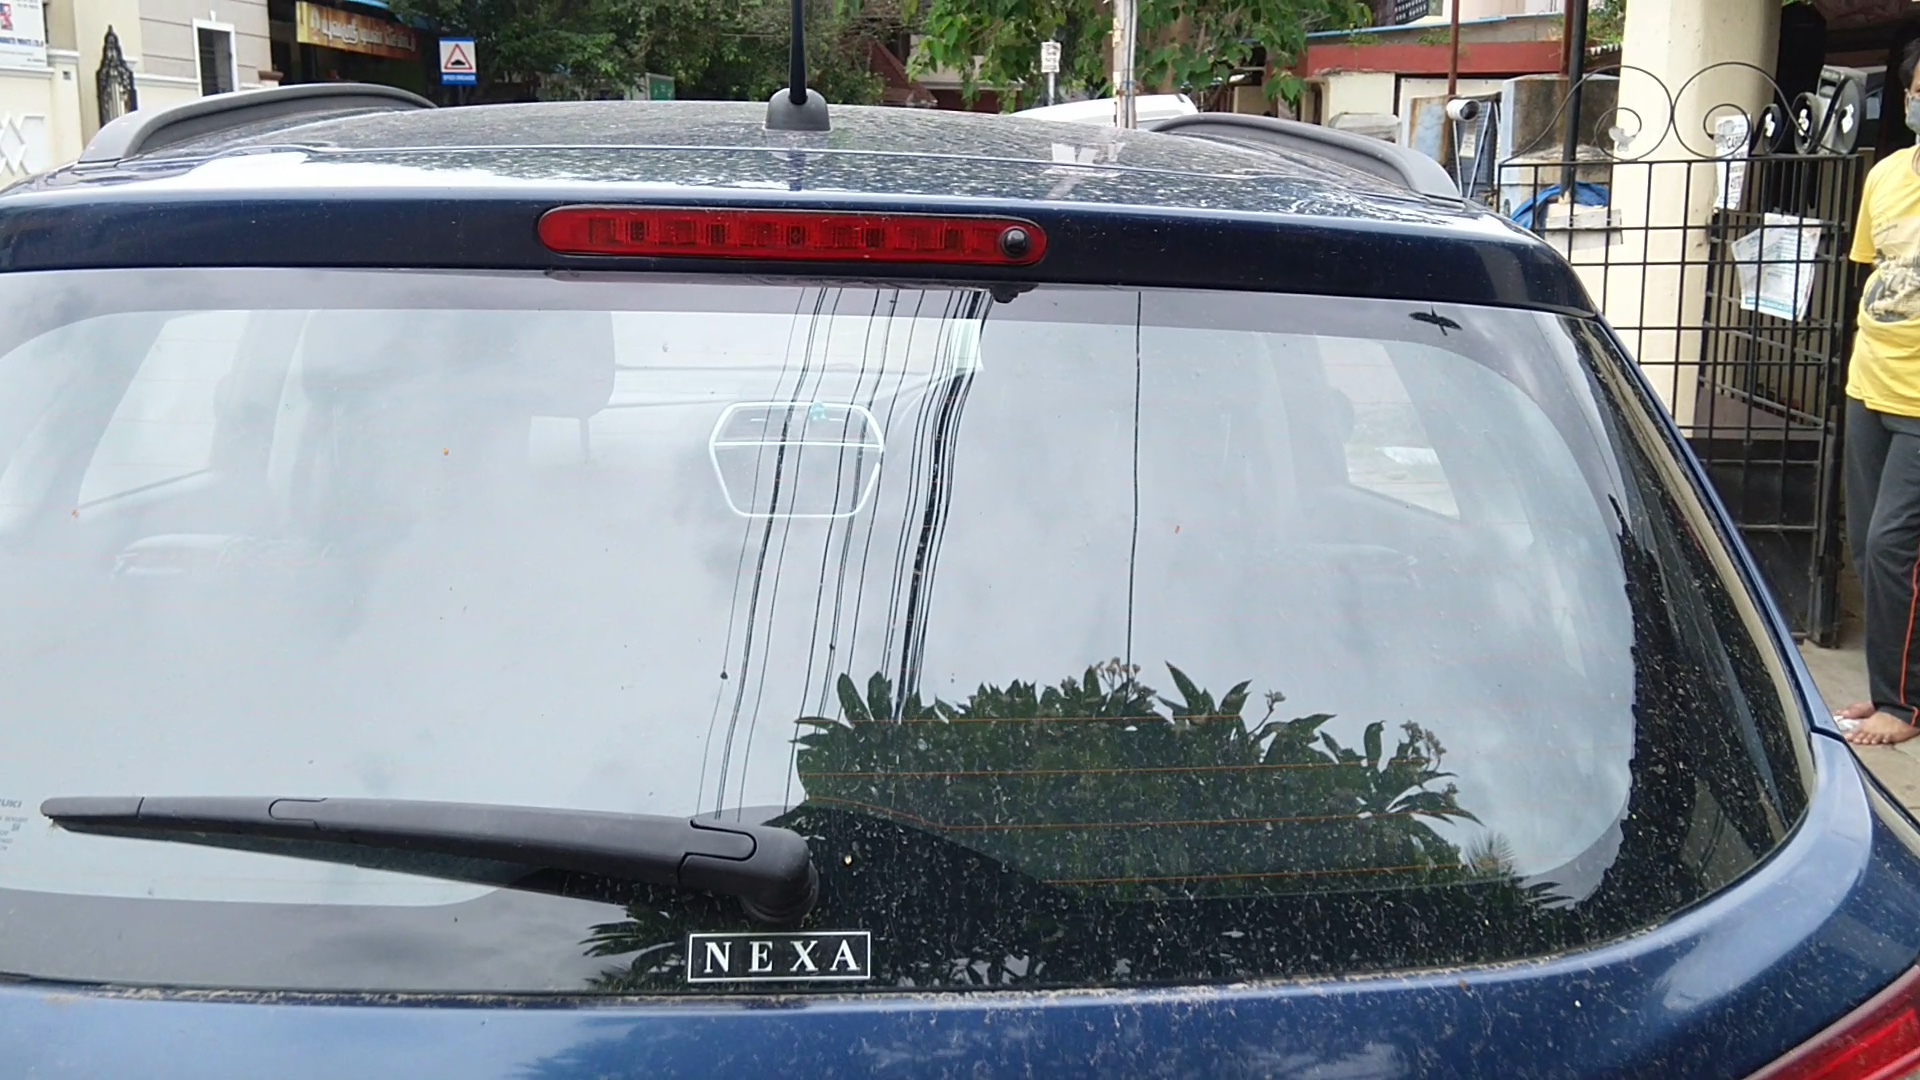rear_camera: (994, 216, 1044, 266)
